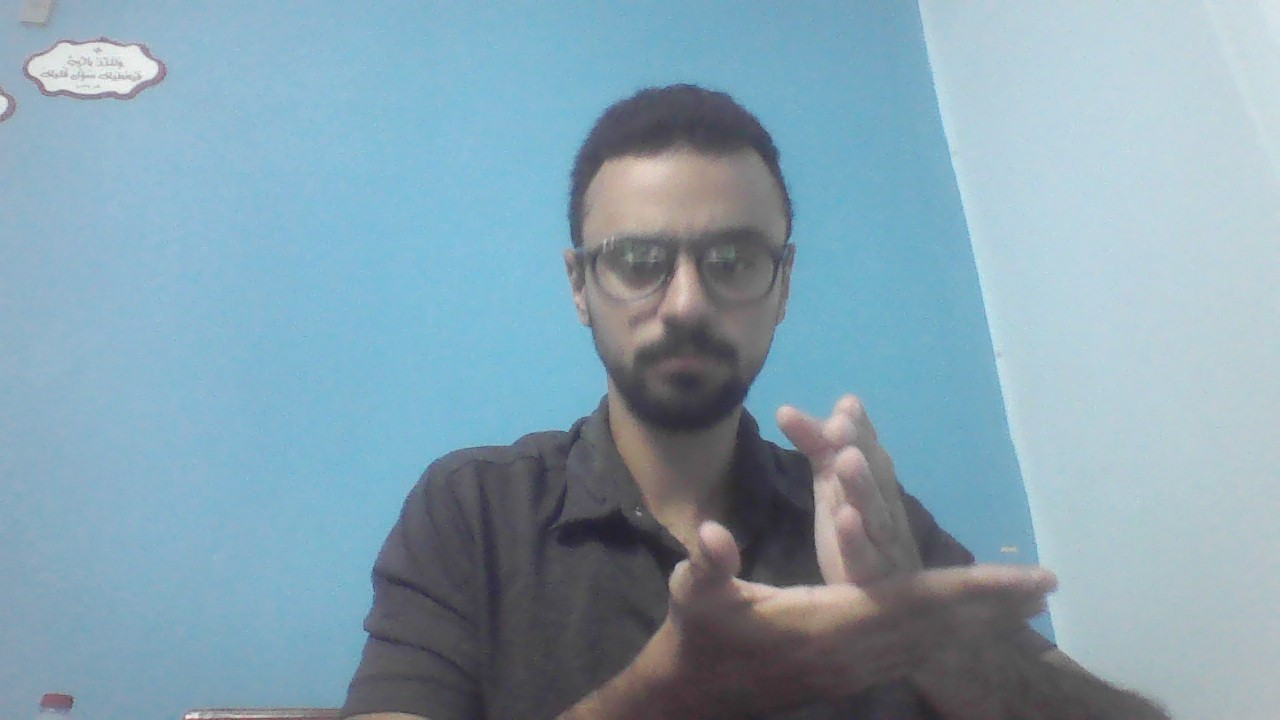stop: (661, 393, 1060, 702)
